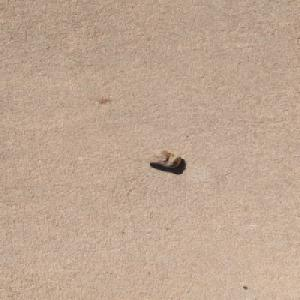Rock: (143, 150, 182, 168)
